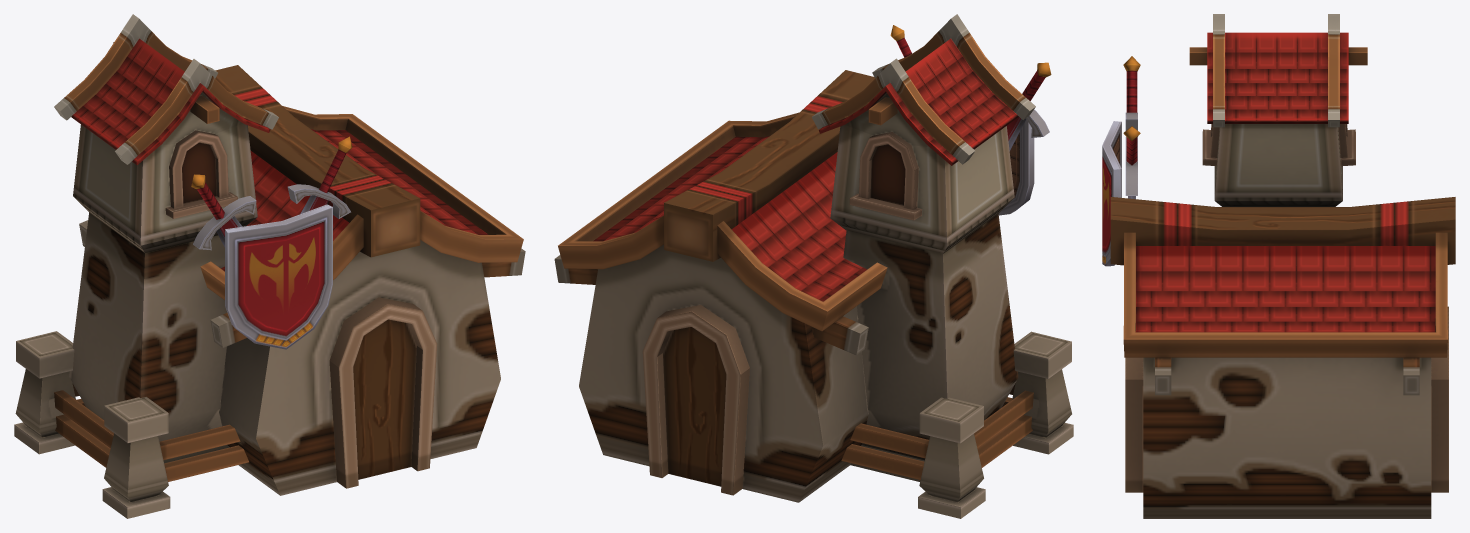
Rendered from Barrack_Level2_F.FBX.
3 views of the same model, side by side, from view 1: azimuth 30°, elevation 25°; view 2: azimuth 150°, elevation 25°; view 3: azimuth 270°, elevation 25° (orthographic). The views are drawn at different scales.
Visible parts, largest first — view 1: Barrack_Level005, Barrack_Shield001; view 2: Barrack_Level005, Barrack_Shield001; view 3: Barrack_Level005, Barrack_Shield001.
Boxes of the visible parts, x1,y1,x2,y2 form: Barrack_Level005: (14, 14, 525, 518); Barrack_Shield001: (191, 136, 352, 349); Barrack_Level005: (554, 14, 1073, 518); Barrack_Shield001: (890, 25, 1051, 215); Barrack_Level005: (1110, 14, 1455, 518); Barrack_Shield001: (1102, 56, 1140, 266).
Size of the model in its own units: 80.39 by 82.19 by 66.74.
